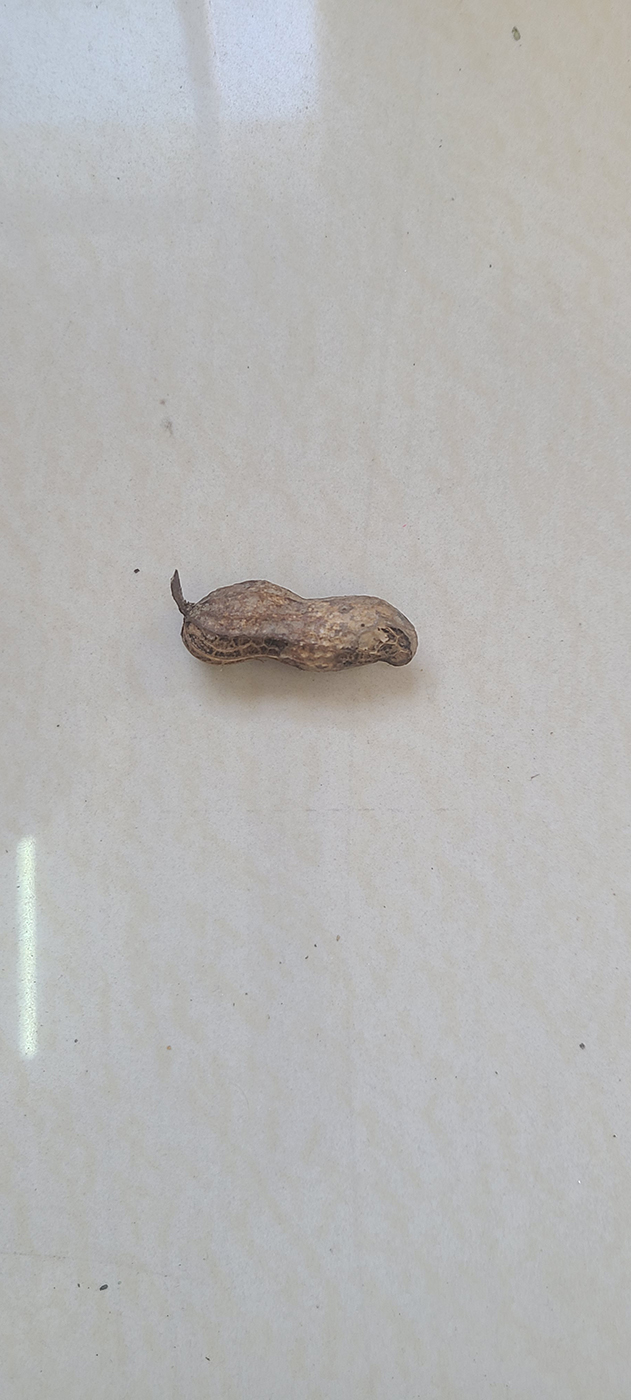l: (178, 580, 422, 676)
